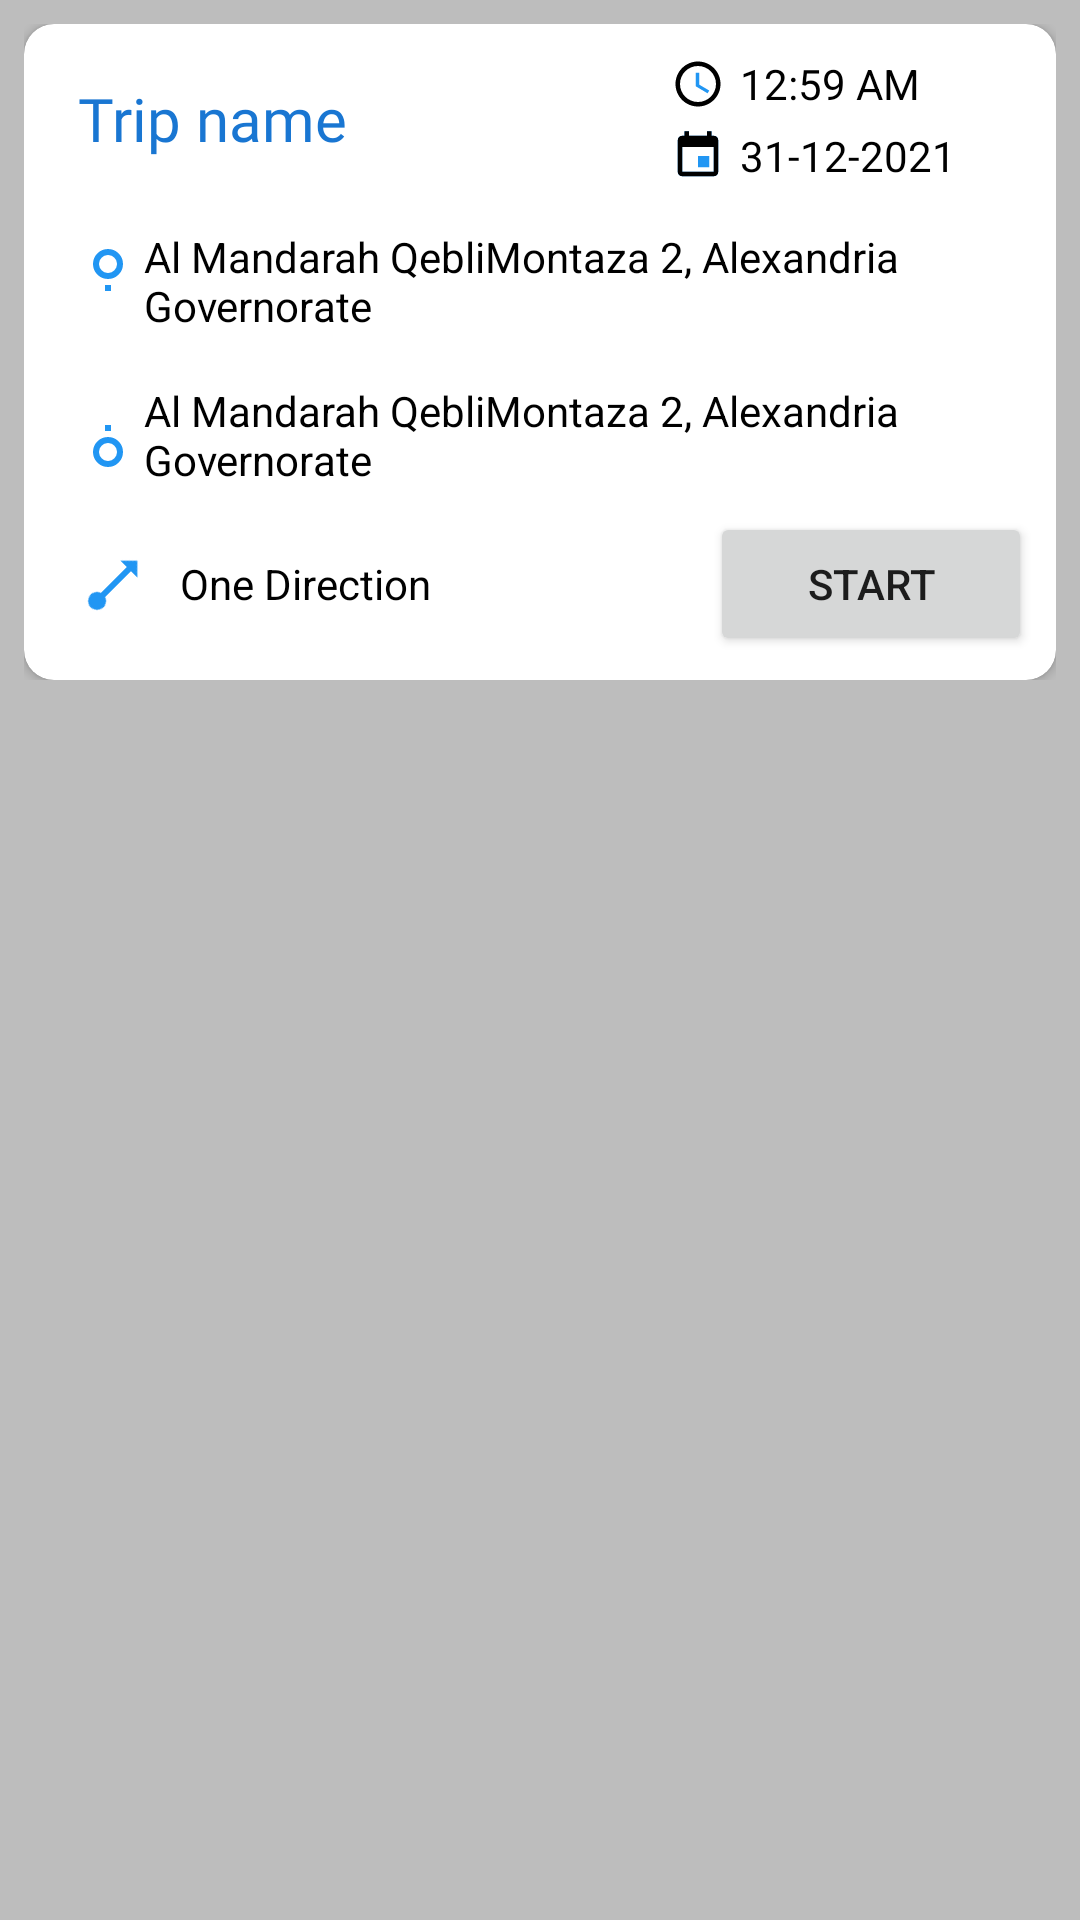

Where to tap for icons on this 1080*1920 app screen, as (x,y):
access time: (698,84)
event: (698,154)
